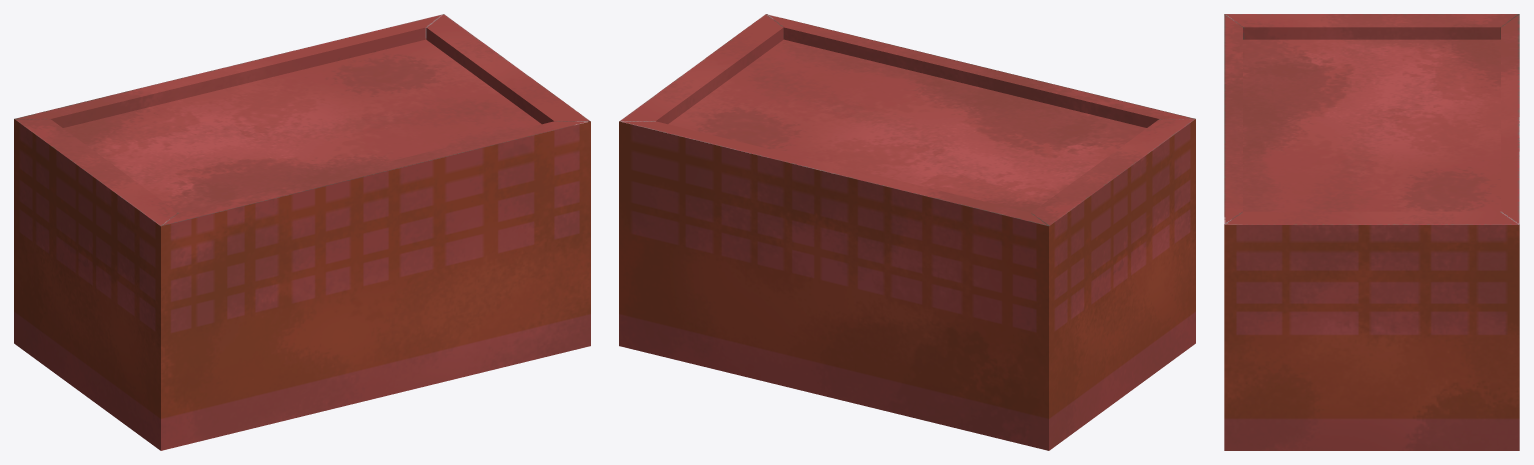
File: Edif3.fbx
The picture shows the model from 3 angles, left to right: view 1: azimuth 30°, elevation 25°; view 2: azimuth 150°, elevation 25°; view 3: azimuth 270°, elevation 25°; orthographic projection.
Visible parts, largest first — view 1: 03; view 2: 03; view 3: 03.
Boxes of the visible parts, box(x1,y1,x2,y2) form: 03: box(14, 14, 590, 450); 03: box(619, 14, 1195, 450); 03: box(1224, 14, 1519, 450).
Size of the model in its own units: 2153 by 1075 by 1273.
